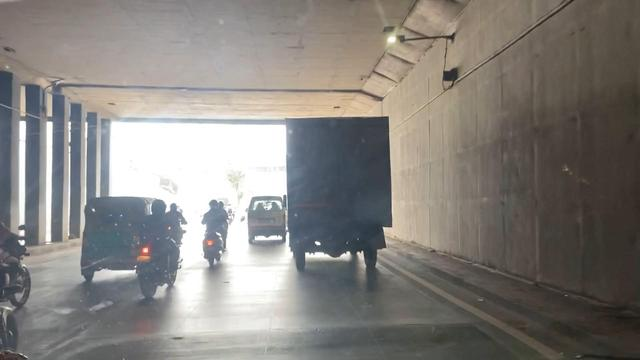HMV: (287, 120, 390, 259)
LMV: (140, 206, 179, 293), (198, 199, 233, 266), (248, 196, 282, 240)
